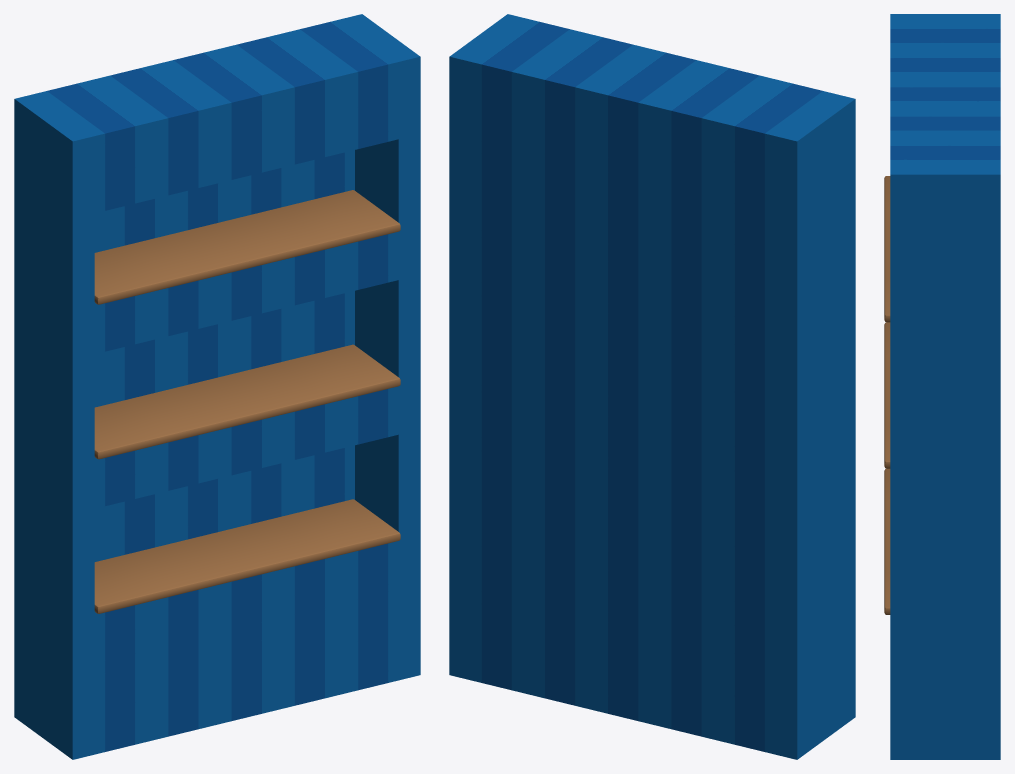
File: StartShelves.fbx
The picture shows the model from 3 angles, left to right: view 1: azimuth 30°, elevation 25°; view 2: azimuth 150°, elevation 25°; view 3: azimuth 270°, elevation 25°; orthographic projection. The views are drawn at different scales.
Visible parts, largest first — view 1: Cube.002; view 2: Cube.002; view 3: Cube.002.
Boxes of the visible parts, bbox=[...] form: Cube.002: bbox=[14, 14, 420, 759]; Cube.002: bbox=[449, 14, 855, 759]; Cube.002: bbox=[884, 14, 1000, 759].
Bounding box in the file's own units: 311 × 529 × 95.1.
